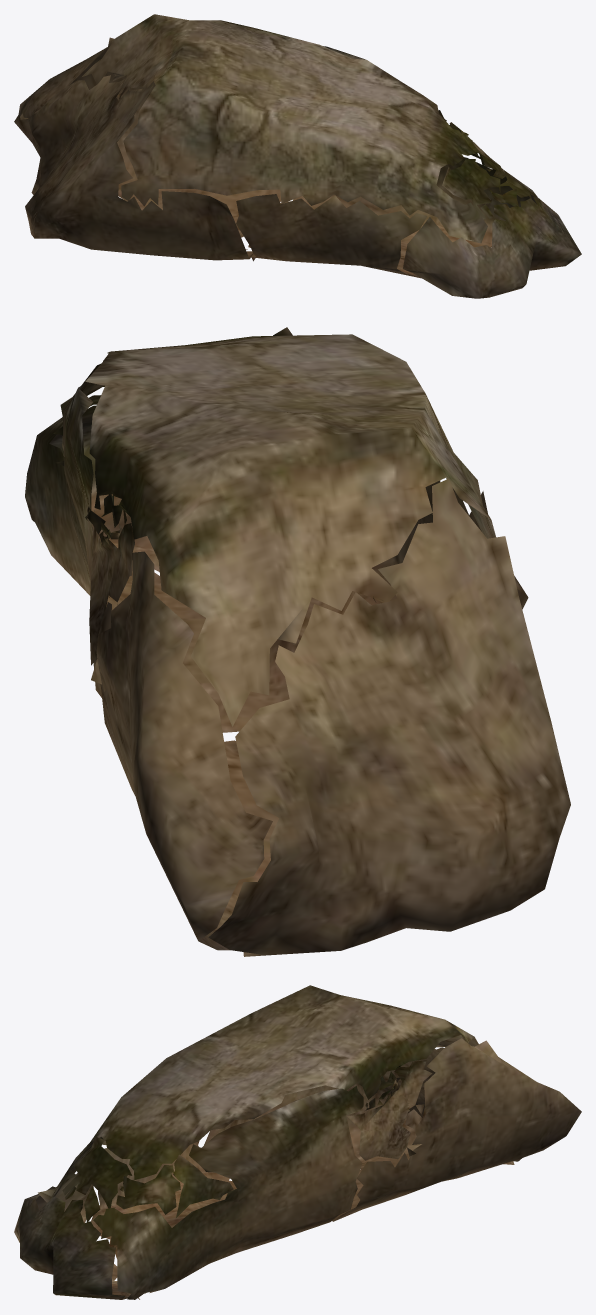
The model's file is rock_moss_set_01_rock02.glb.
The picture shows the model from 3 angles, top to bottom: view 1: azimuth 30°, elevation 25°; view 2: azimuth 150°, elevation 25°; view 3: azimuth 270°, elevation 25°; orthographic projection. The views are drawn at different scales.
Visible parts, largest first — view 1: rock_moss_set_01_rock02; view 2: rock_moss_set_01_rock02; view 3: rock_moss_set_01_rock02.
Boxes of the visible parts, box(x1,y1,x2,y2) form: rock_moss_set_01_rock02: box(14, 14, 581, 298); rock_moss_set_01_rock02: box(25, 327, 570, 956); rock_moss_set_01_rock02: box(14, 985, 581, 1299).
Bounding box in the file's own units: 2.63 × 1.27 × 3.23.
Materials: 1 (1 with a texture image).
